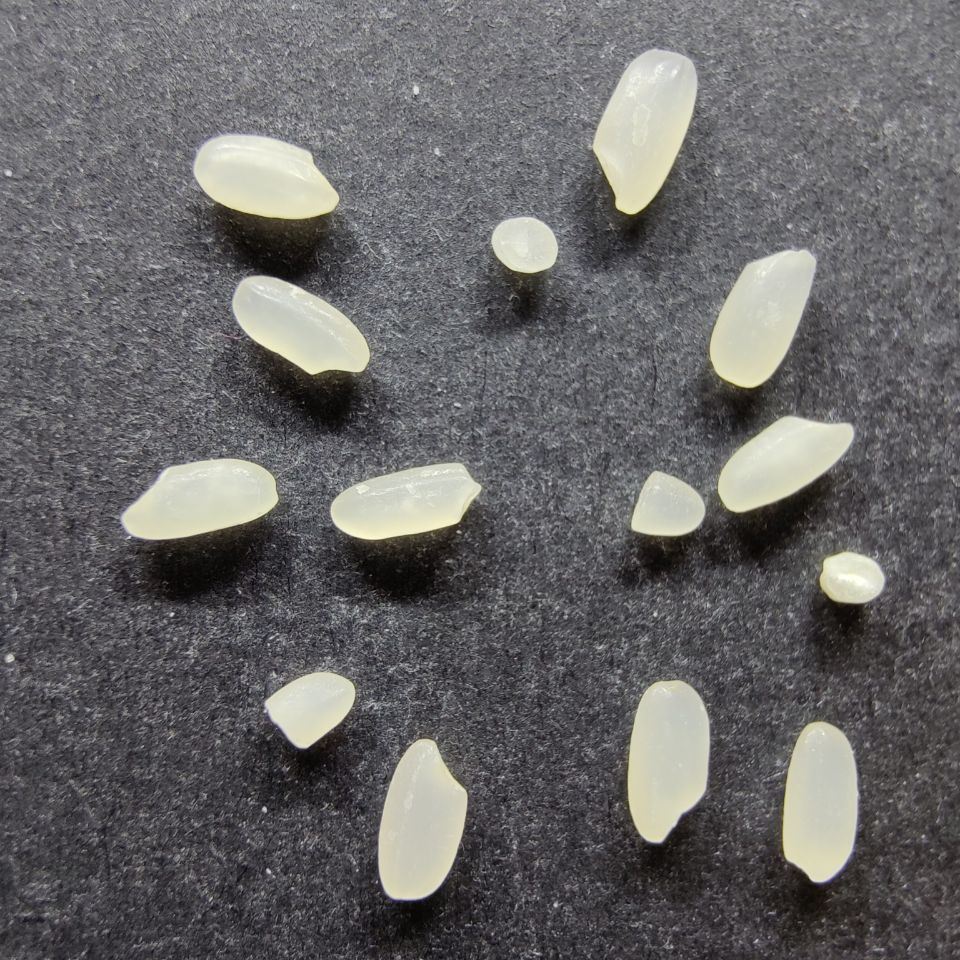broken: (261, 670, 356, 751), (628, 469, 708, 539), (490, 216, 562, 273), (816, 549, 886, 605)
rice: (589, 50, 699, 214), (375, 737, 470, 901), (706, 249, 817, 389), (230, 272, 372, 378), (625, 678, 712, 845), (715, 415, 856, 514), (119, 455, 279, 541), (190, 132, 341, 220), (779, 720, 860, 884), (327, 459, 483, 541)
